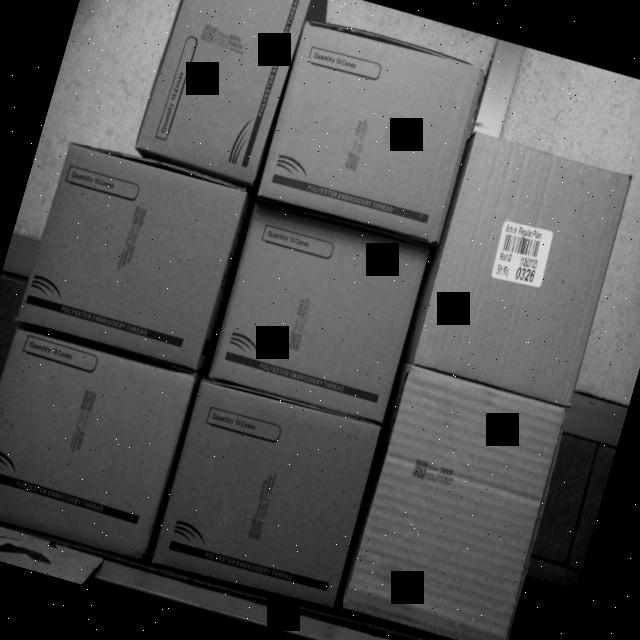box: (406, 128, 640, 412), (339, 363, 574, 640), (145, 373, 384, 613), (253, 20, 489, 246), (19, 142, 251, 368), (204, 196, 434, 420), (0, 326, 195, 564), (133, 0, 311, 188)
